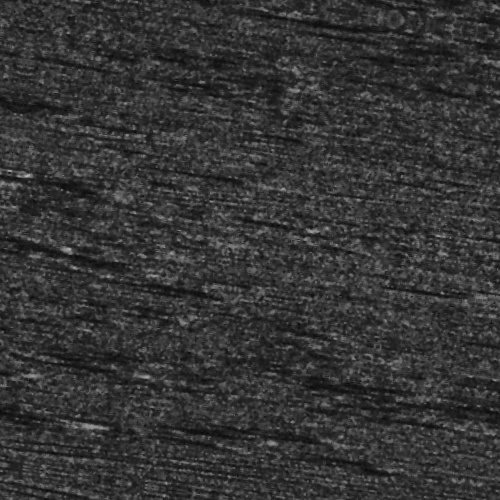object: (346, 9, 419, 20), (96, 441, 149, 448), (135, 386, 176, 391)
shadow: (246, 9, 382, 20), (0, 441, 122, 448), (79, 386, 155, 391), (427, 303, 500, 308)
